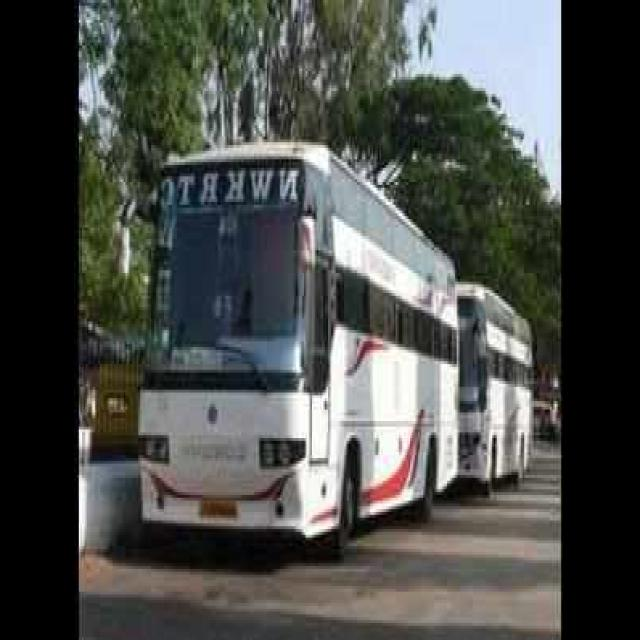bus: (140, 144, 456, 543)
